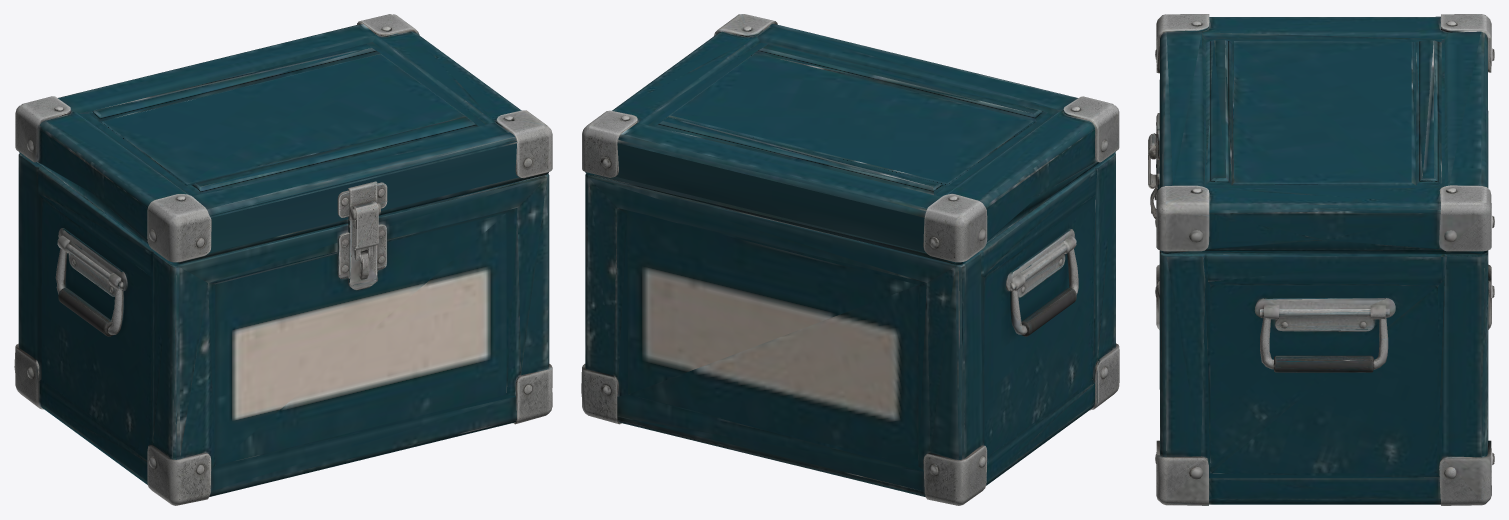
File: crate-t25.glb
3 views of the same model, side by side, from view 1: azimuth 30°, elevation 25°; view 2: azimuth 150°, elevation 25°; view 3: azimuth 270°, elevation 25° (orthographic). The views are drawn at different scales.
Parts seen in each view (by area): view 1: crate-t25; view 2: crate-t25; view 3: crate-t25.
Boxes of the visible parts, box(x1,y1,x2,y2) form: crate-t25: box(14, 14, 552, 505); crate-t25: box(581, 14, 1119, 505); crate-t25: box(1148, 14, 1494, 505).
Bounding box in the file's own units: 0.62 × 0.432 × 0.44.
1 material, 1 textured.
